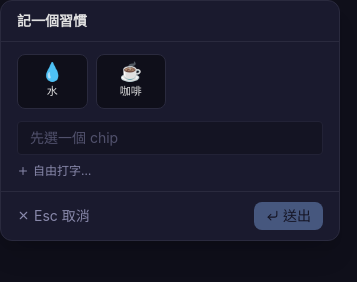
Test: ChipPopover screen › does NOT crash when ensureCheckin returns a partial shape (no currentStreak)
This screenshot has width=357, height=282.
Note: Primary interaction: pick a chip, then submit.
Click the button labelled "💧 水": click(52, 81) [17, 54, 88, 108]
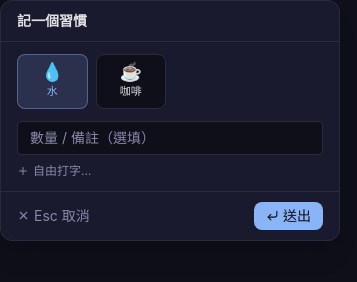
Click the button "送出": click(288, 216) [254, 202, 323, 230]
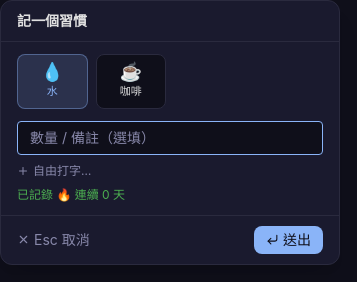
Now the message shows "連續 0 天", box [17, 186, 125, 202]
